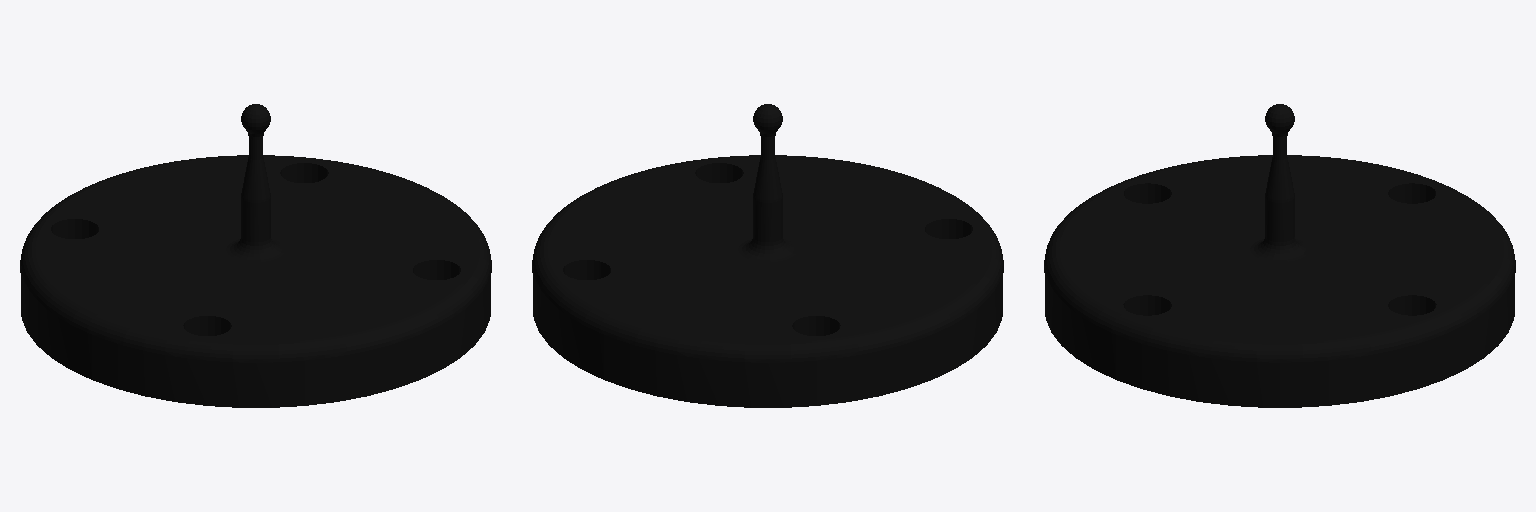
robot.urdf — probe_tool:
<?xml version="1.0" ?>

<robot name="probe_tool">
  <link name="base_link">
    <inertial>
      <origin rpy="0 0 0" xyz="8.625E-08 -4.6583E-06 0.03145"/>
      <mass value="0.08"/>
      <inertia ixx="0.00020005" ixy="-4.2442E-10" ixz="-2.9069E-10" iyy="0.00017832" iyz="-3.4402E-08" izz="0.00013478"/>
    </inertial>
    <visual>
      <origin rpy="0 0 0" xyz="0 0 0"/>
      <geometry>
        <mesh filename="./probe.obj" scale="0.001 0.001 0.001"/>
      </geometry>
      <material name="">
        <color rgba="0.1 0.1 0.1 1"/>
      </material>
    </visual>
    <collision>
      <origin rpy="0 0 0" xyz="0 0 0"/>
      <geometry>
        <mesh filename="./probe.obj" scale="0.001 0.001 0.001"/>
      </geometry>
    </collision>
  </link>
</robot>

--- Render facts (derived) ---
Views: 3 orthographic renders of the robot side by side, from view 1: azimuth 30°, elevation 25°; view 2: azimuth 150°, elevation 25°; view 3: azimuth 270°, elevation 25°.
Model probe_tool with 1 links and 0 joints (none), rooted at base_link, posed every joint at zero.
Links seen in each view (by area): view 1: base_link; view 2: base_link; view 3: base_link.
Boxes of the visible links, x1,y1,x2,y2 form: base_link: [20, 104, 491, 407]; base_link: [532, 104, 1003, 407]; base_link: [1044, 104, 1515, 407].
Bounding box of the posed robot: 0.063 × 0.063 × 0.03 m (x, y, z).
Meshes: 1 distinct files referenced, 1 mesh visuals loaded (1 OBJ).